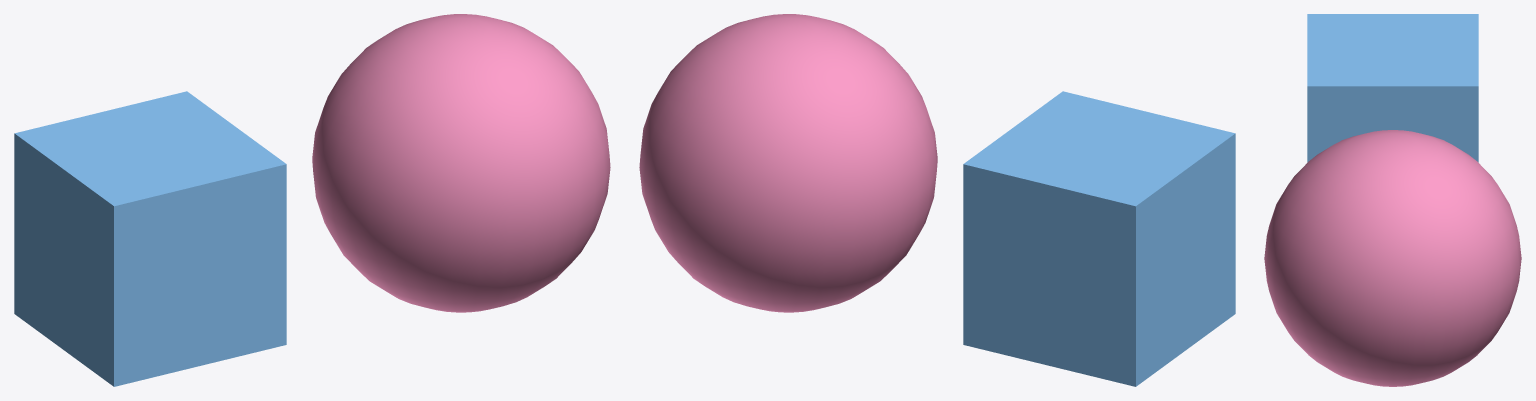
File: sample.glb
3 renders of one model, left to right at view 1: azimuth 30°, elevation 25°; view 2: azimuth 150°, elevation 25°; view 3: azimuth 270°, elevation 25°, orthographic. The views are drawn at different scales.
Visible parts, largest first — view 1: Sphere, Cube; view 2: Sphere, Cube; view 3: Sphere, Cube.
Boxes of the visible parts, box(x1,y1,x2,y2) form: Sphere: box(312, 14, 610, 312); Cube: box(14, 91, 286, 386); Sphere: box(639, 14, 937, 312); Cube: box(963, 91, 1235, 386); Sphere: box(1264, 130, 1521, 386); Cube: box(1307, 14, 1478, 162).
Size of the model in its own units: 3.05 by 1.5 by 1.5.
